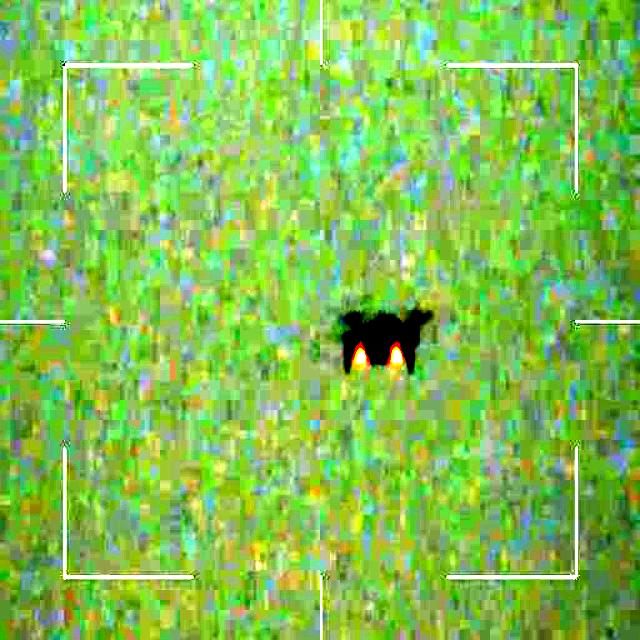bird: (338, 309, 431, 372)
